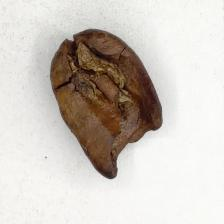NG: (68, 42, 130, 99), (100, 122, 163, 176)
